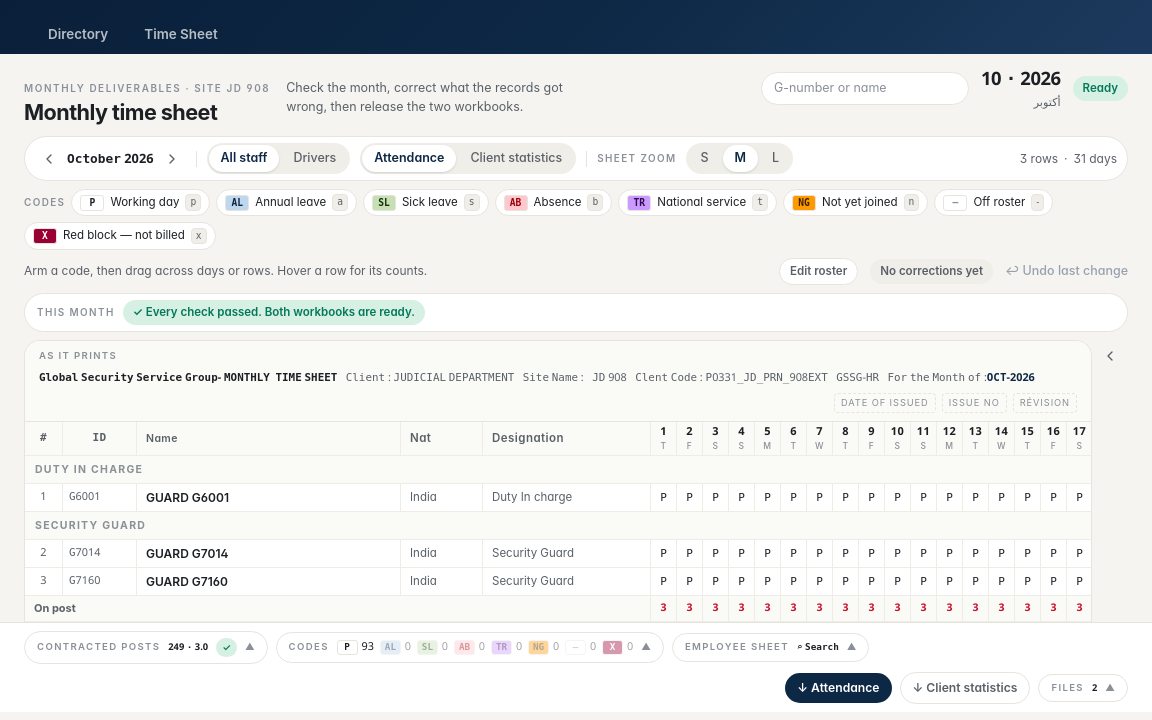
Test: moving a man in from the other workbook › sends the man and his new designation as one batch
Expected: the text "GUARD G7160" is shown, [146,574,228,588]
Click the button "Drivers": (315, 159) [281,145,348,172]
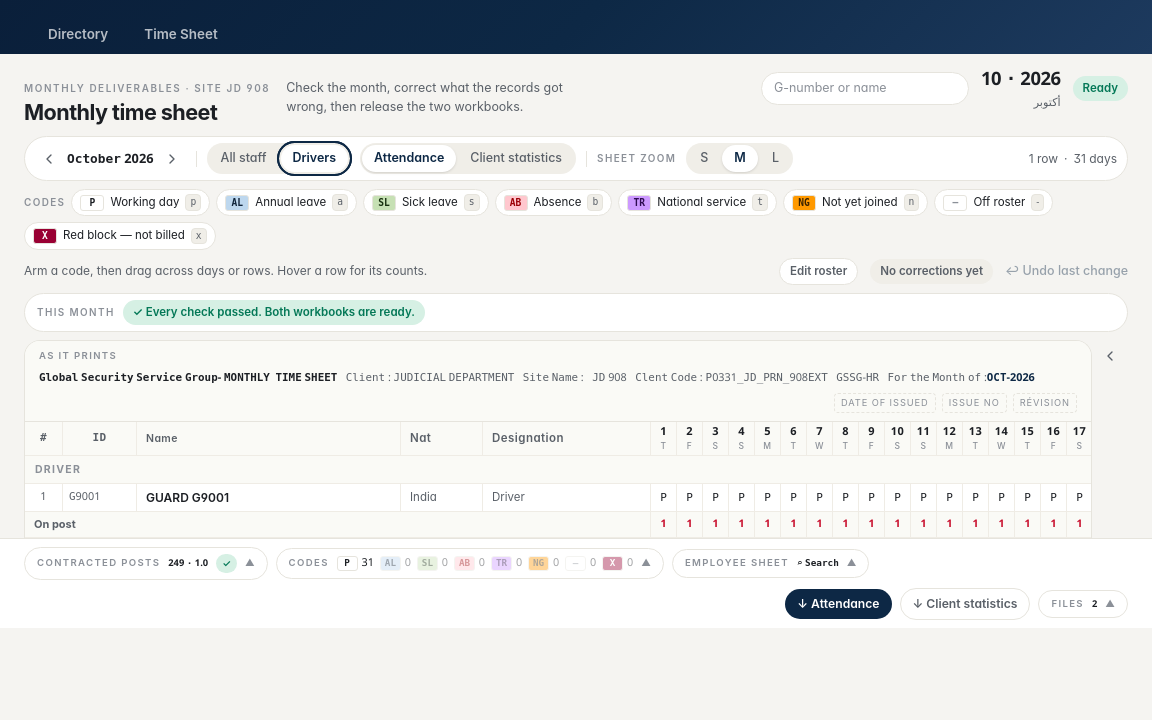
Result: the text "GUARD G9001" is shown at [146,490,229,504]
Click the button "Edit roster": (819, 271) [779,258,858,285]
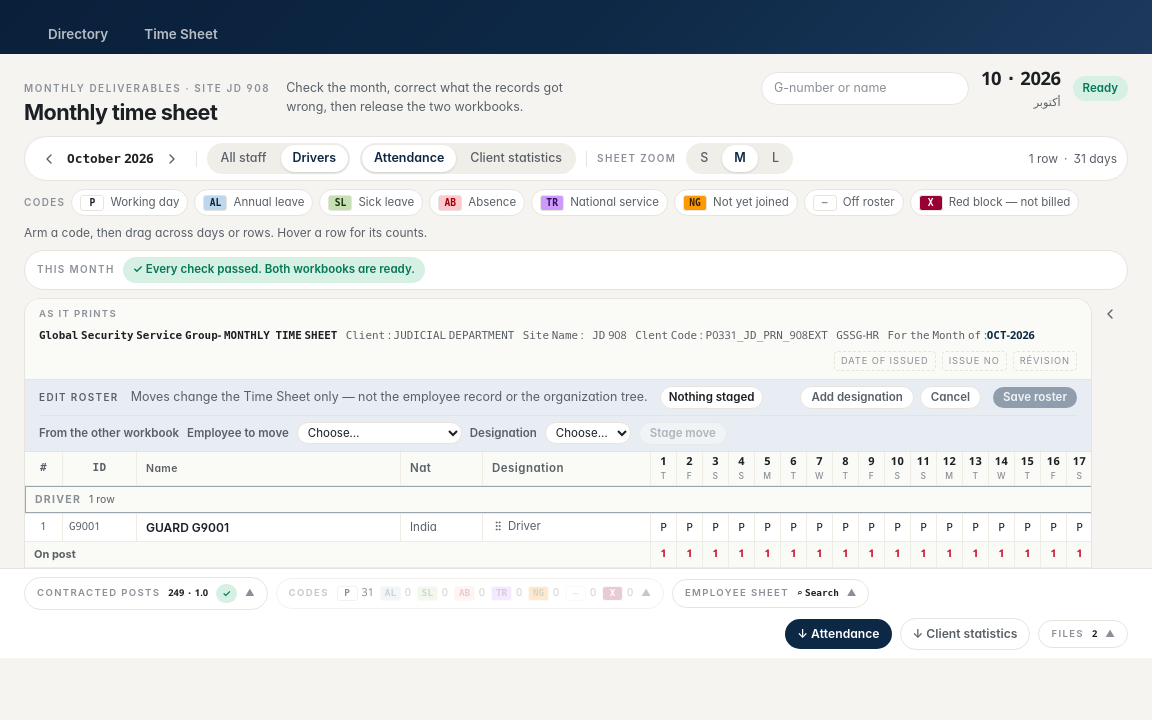
Select "G7160 — GUARD G7160" in the dropdown labelled "Employee to move": (379, 433) [297,422,462,444]
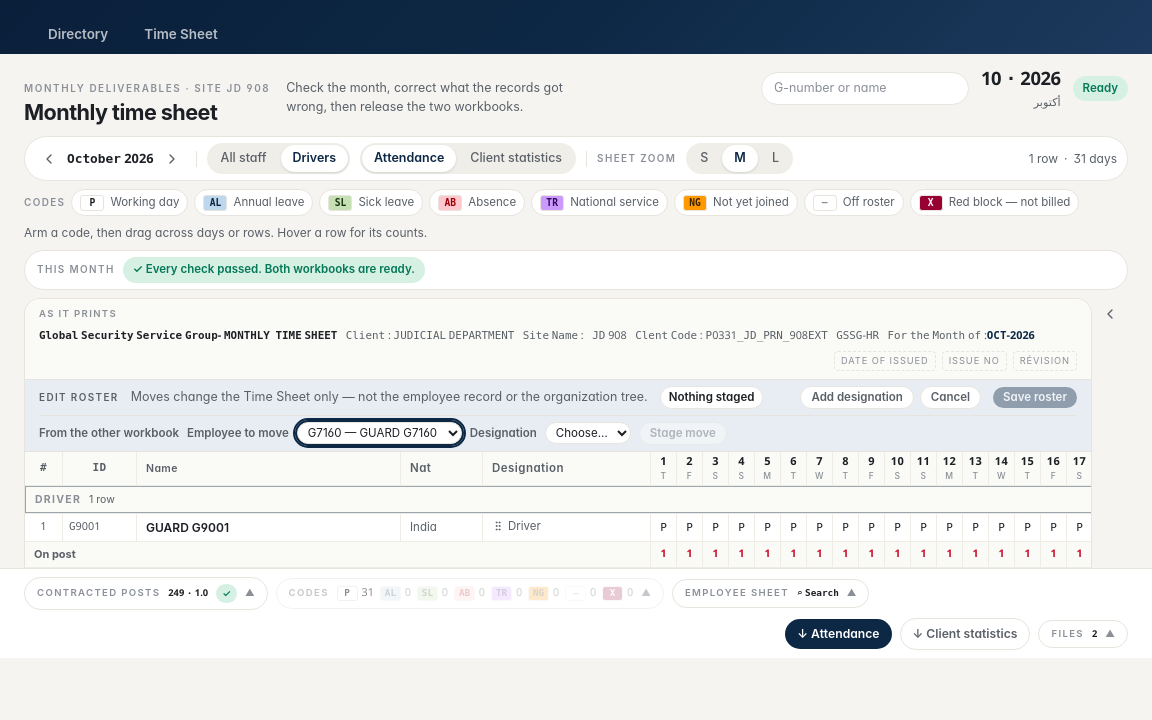
Select "Driver" in the dropdown labelled "Designation": (588, 433) [545,422,631,444]
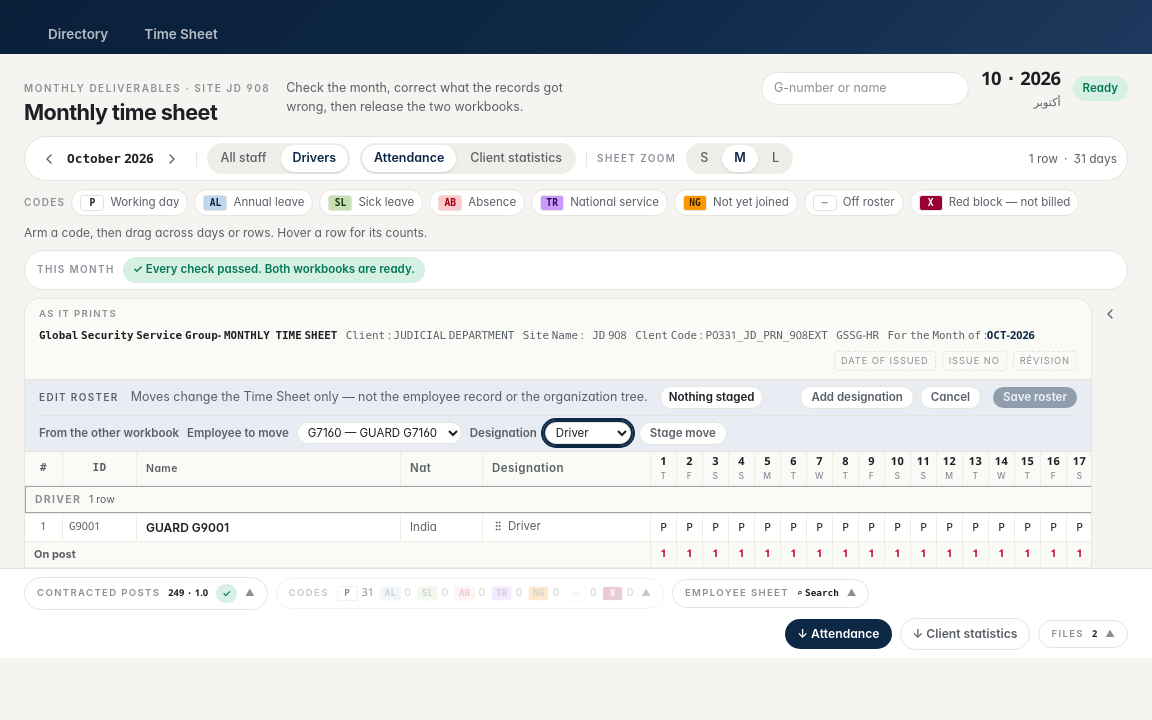
Click the button "Stage move": (683, 433) [639,422,727,445]
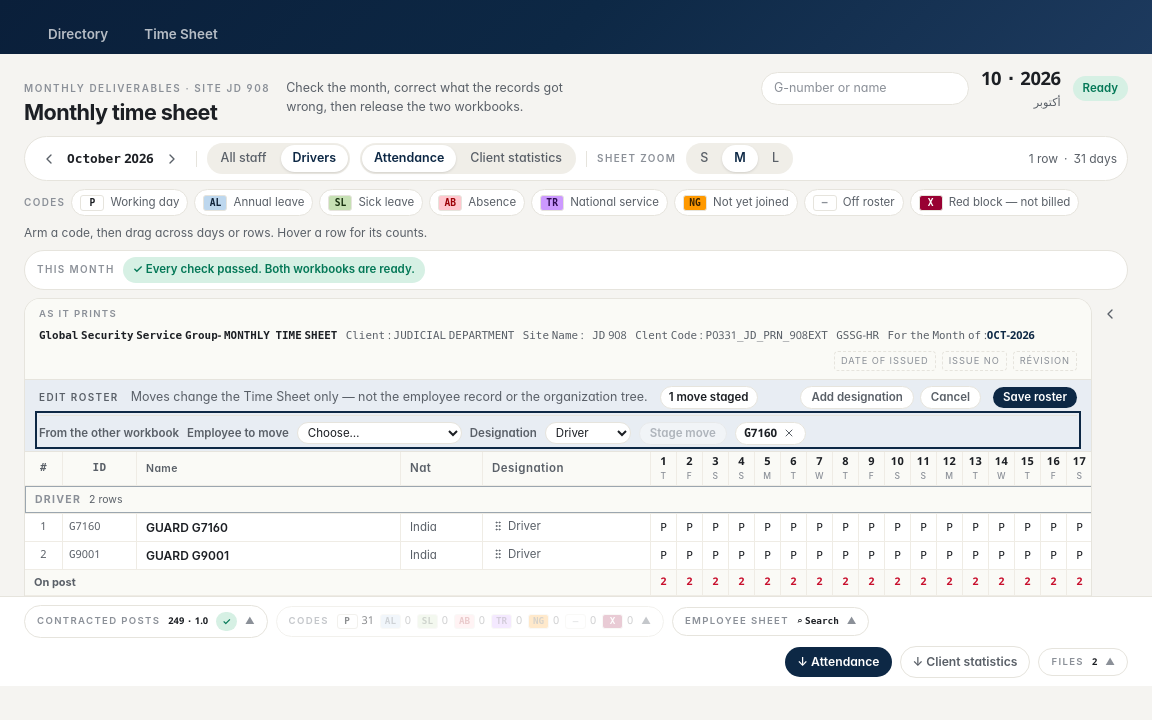
Click the button "Save roster": (1035, 397) [993,386,1077,408]
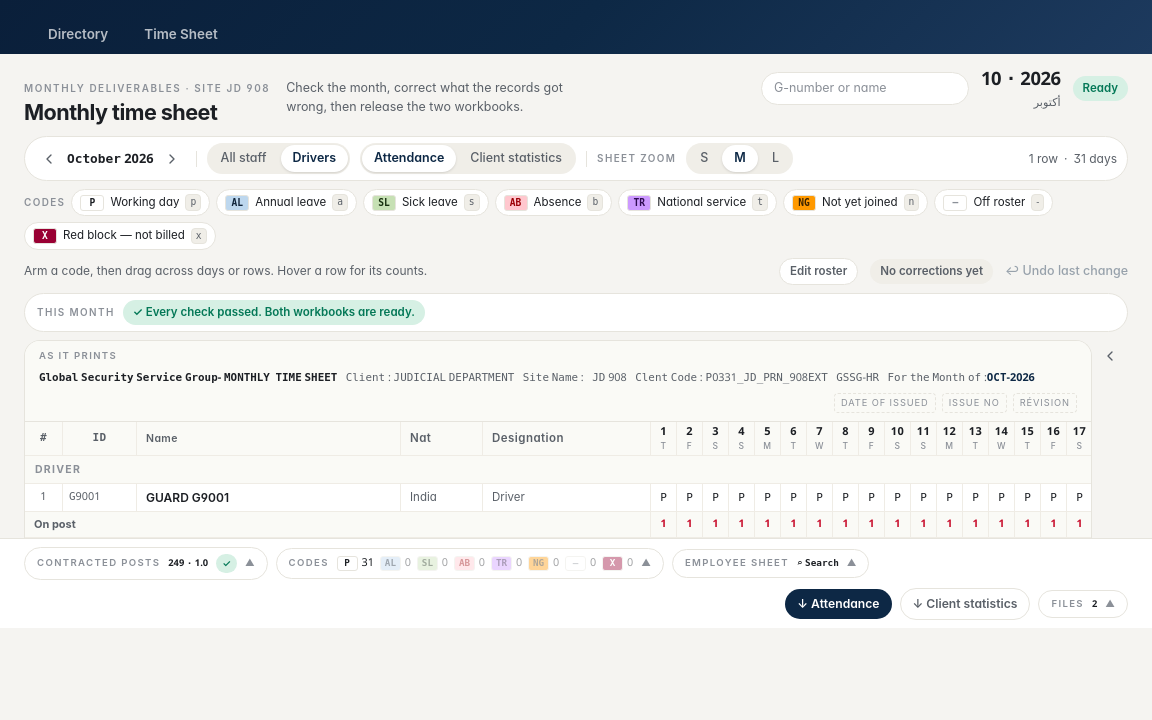
Result: the button "Save roster" is gone
